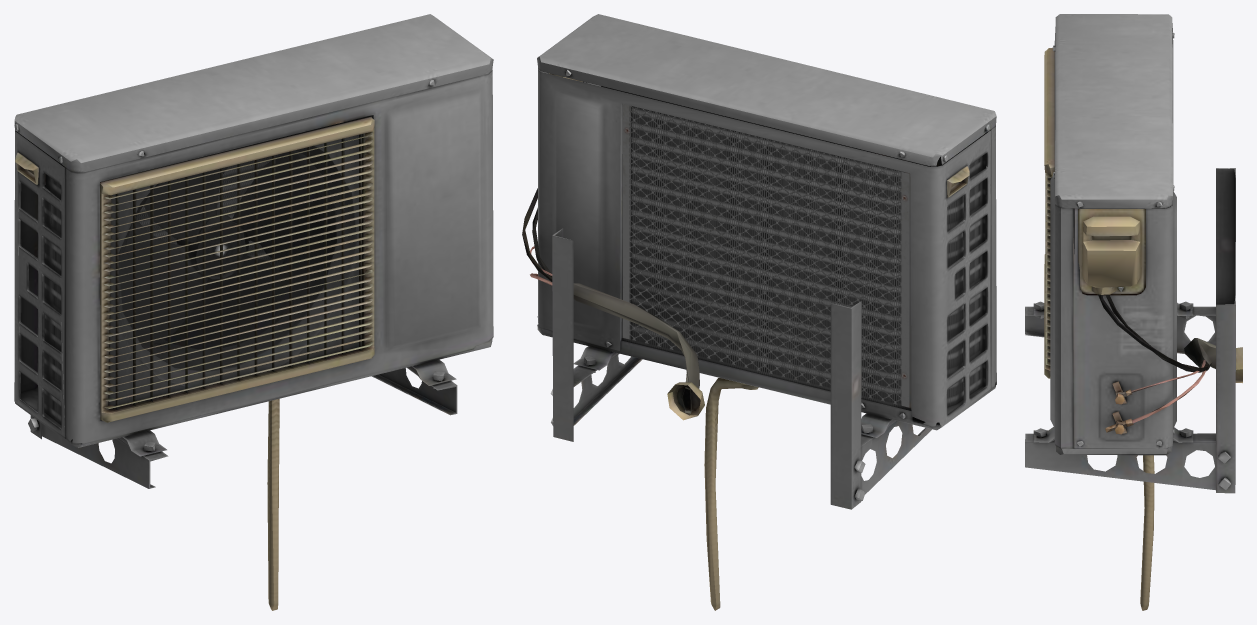
Rendered from exterior_aircon_unit.glb.
3 renders of one model, left to right at view 1: azimuth 30°, elevation 25°; view 2: azimuth 150°, elevation 25°; view 3: azimuth 270°, elevation 25°, orthographic. The views are drawn at different scales.
Visible parts, largest first — view 1: exterior_aircon_unit; view 2: exterior_aircon_unit; view 3: exterior_aircon_unit.
Part boxes in pixels (x1,y1,x2,y2): exterior_aircon_unit: [14, 14, 493, 610]; exterior_aircon_unit: [522, 14, 996, 610]; exterior_aircon_unit: [1025, 14, 1242, 610].
Size of the model in its own units: 0.7998 by 0.9281 by 0.3742.
Materials: 2 (2 with a texture image).
